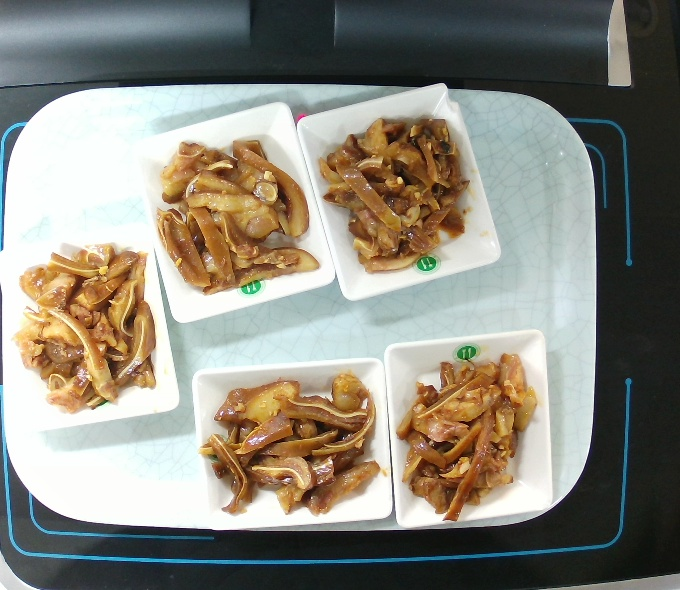wcq-ZhuErDuo: (199, 362, 385, 524), (151, 126, 322, 296), (316, 104, 472, 278), (391, 346, 541, 526), (15, 237, 162, 415)
